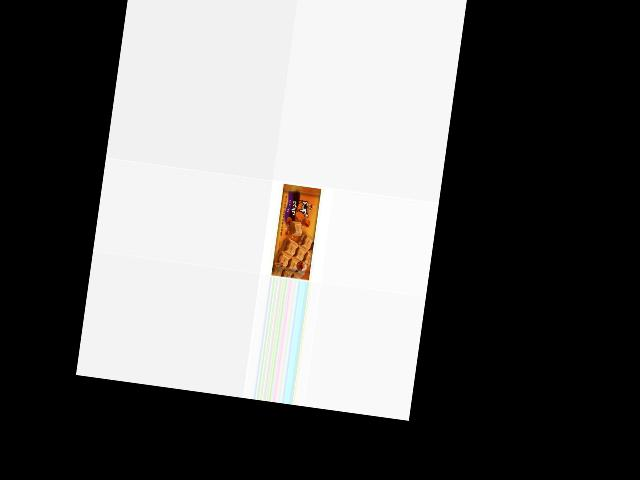chocolate: (268, 180, 321, 280)
